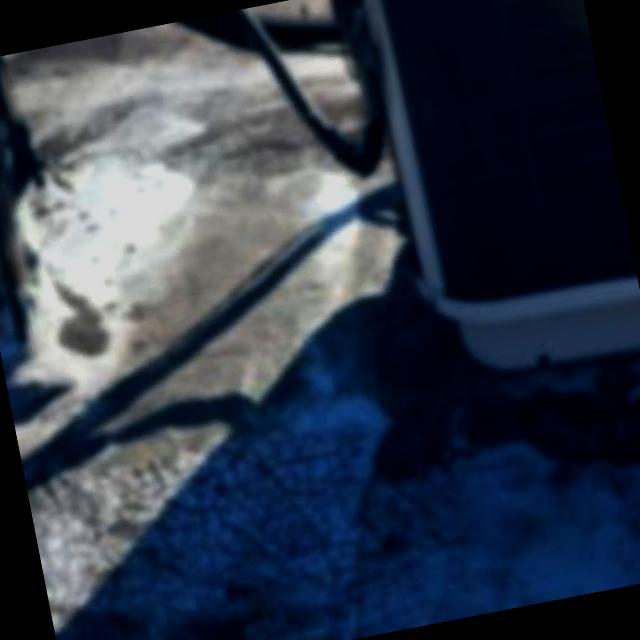SPLIT-SYSTEM: (263, 0, 640, 411)
